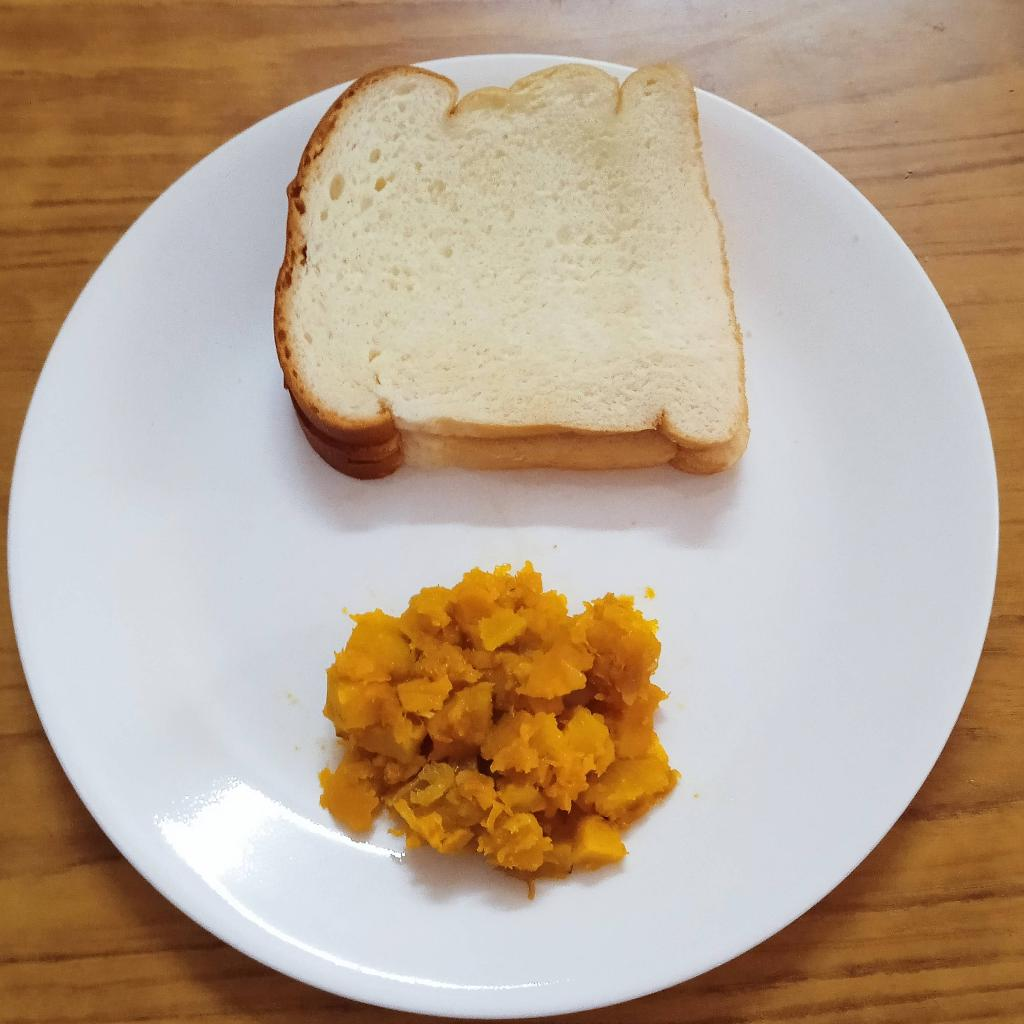bread: (275, 63, 755, 474)
kumra-vaji: (311, 572, 678, 876)
